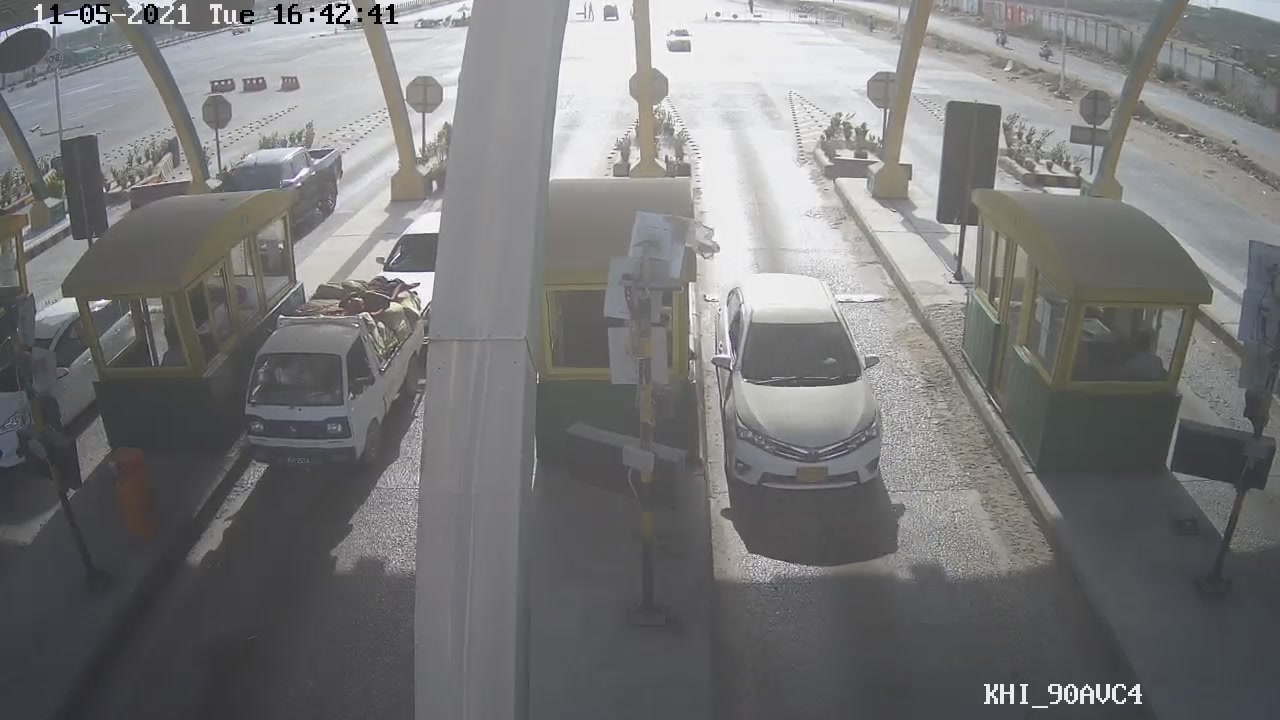F1: (709, 264, 900, 507)
